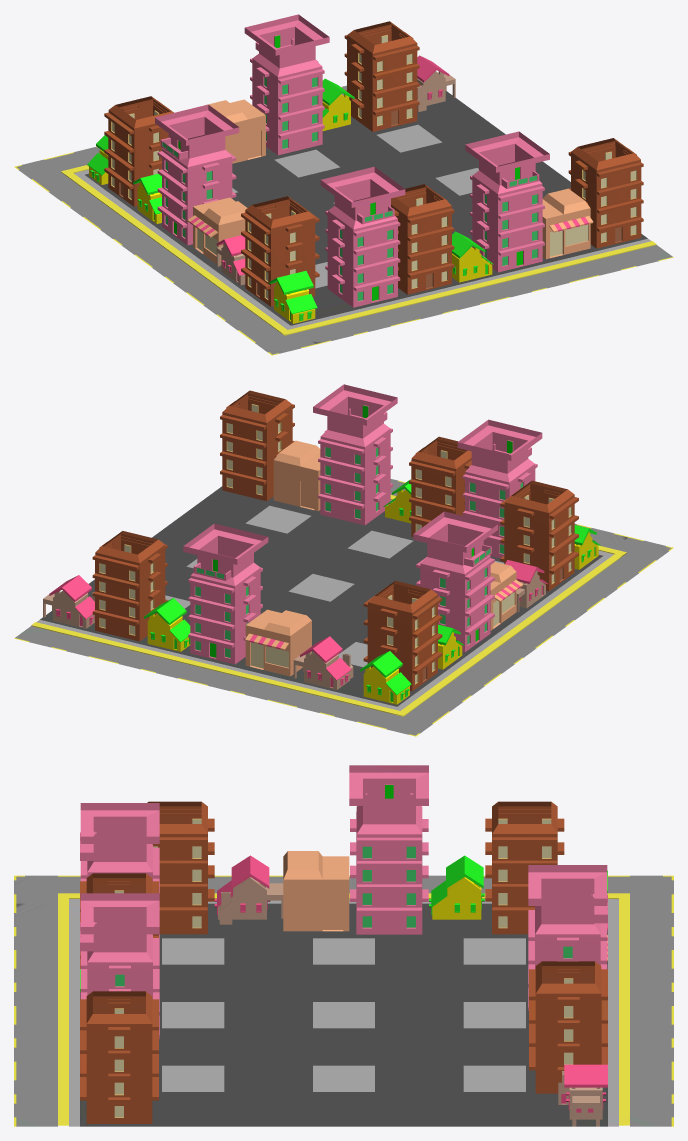
The model's file is CityBlock.fbx.
The picture shows the model from 3 angles, top to bottom: view 1: azimuth 30°, elevation 25°; view 2: azimuth 150°, elevation 25°; view 3: azimuth 270°, elevation 25°; orthographic projection. The views are drawn at different scales.
Parts seen in each view (by area): view 1: citytiles.002; view 2: citytiles.002; view 3: citytiles.002.
Part boxes in pixels (x1=…): citytiles.002: x1=14, y1=14, x2=673, y2=355; citytiles.002: x1=14, y1=384, x2=673, y2=736; citytiles.002: x1=14, y1=765, x2=673, y2=1126.
Size of the model in its own units: 10020 by 9018 by 2323.
